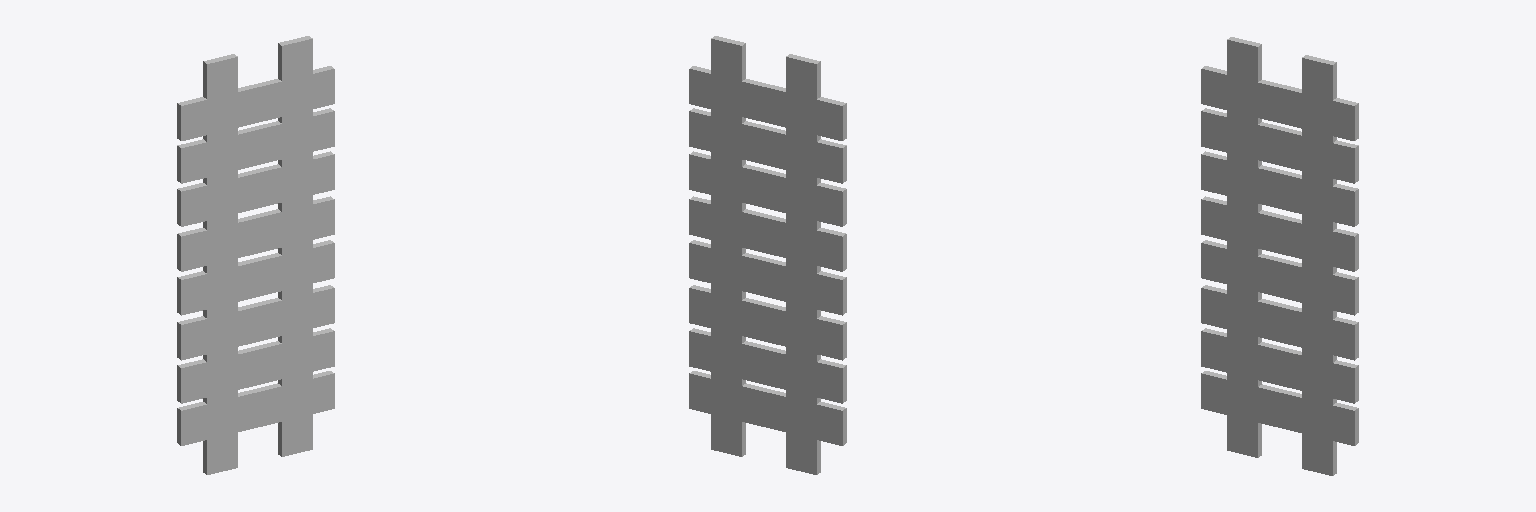
Rendered from trackHUD.obj.
3 views of the same model, side by side, from view 1: azimuth 30°, elevation 25°; view 2: azimuth 150°, elevation 25°; view 3: azimuth 330°, elevation 25° (orthographic).
Parts seen in each view (by area): view 1: Plane; view 2: Plane; view 3: Plane.
Part boxes in pixels (x1,y1,x2,y2): Plane: (177,36,334,474); Plane: (689,36,846,474); Plane: (1201,37,1358,475).
Bounding box in the file's own units: 1 × 2.58 × 0.046.